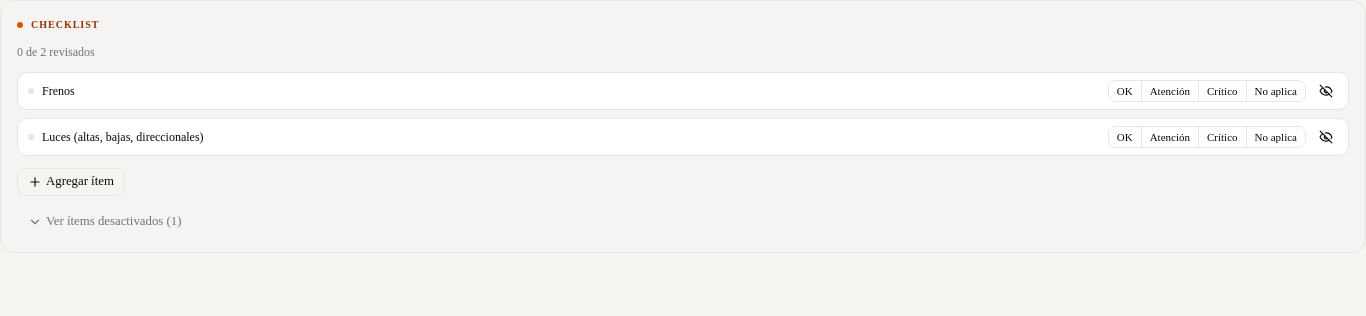
Test: DviChecklistForm › reactivates an item and refreshes the page when an ADMIN clicks its reactivate control
Click the button "Ver ítems desactivados (1)": (105, 222) [17,208,192,236]
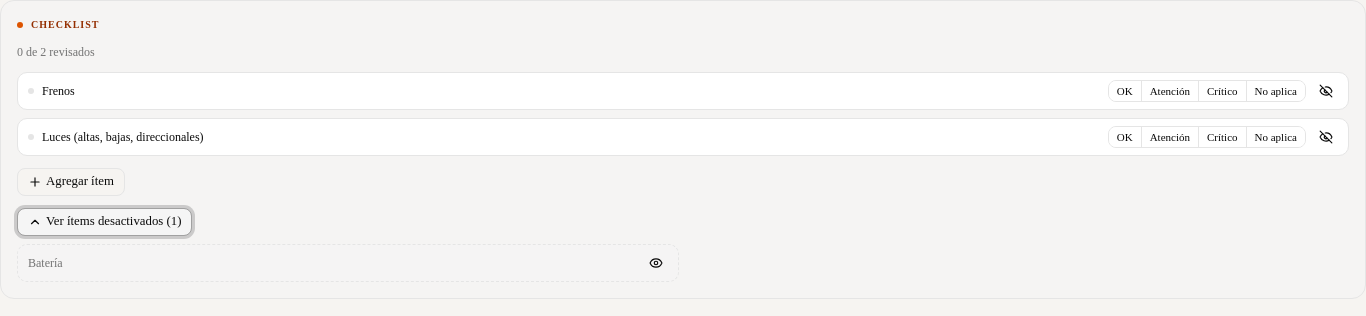
Click the button named "Reactivar Batería": (656, 263) [644,251,668,275]
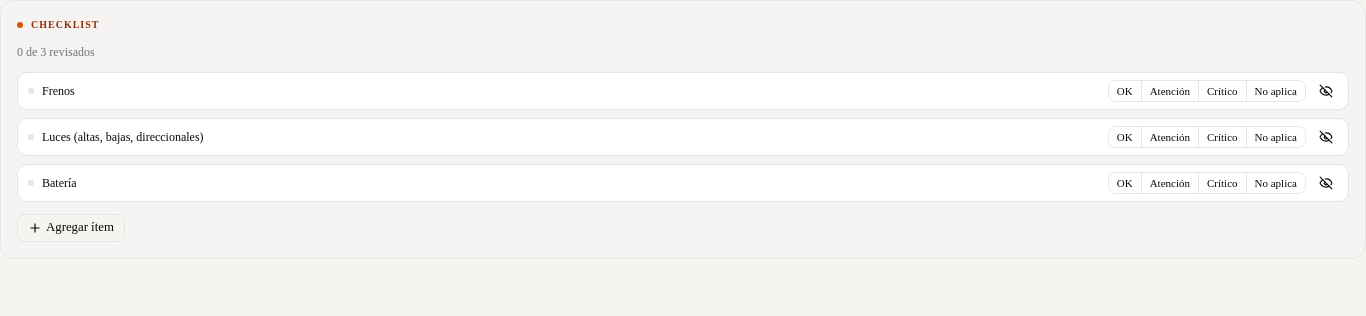
expect the element named "Batería" is shown: met, box [1108,172,1306,194]
